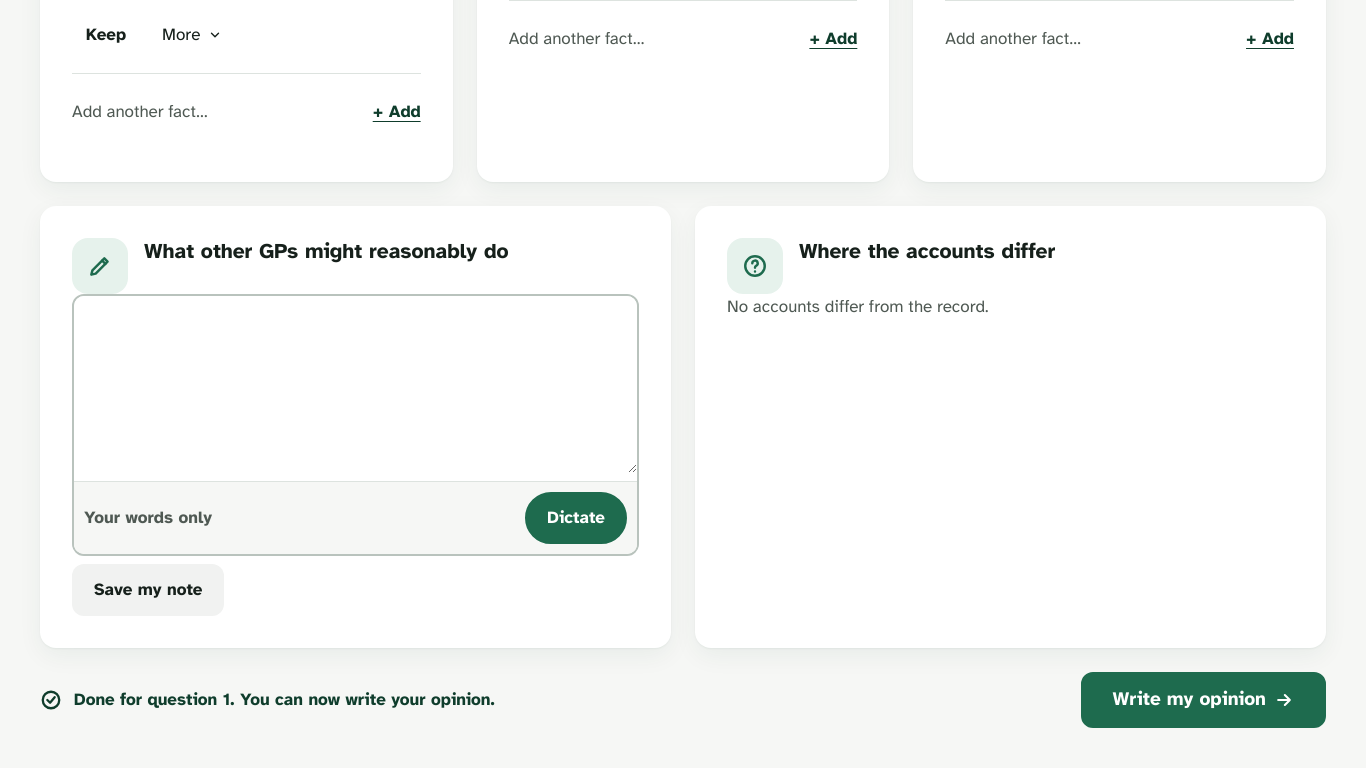
Test case: the range note uses the pack's prompt and saves with its version
This screenshot has width=1366, height=768.
(page scrolled)
Type "My note" into the text box named "What other GPs might reasonably do" at (356, 384), box top-left (74, 296), bottom-right (637, 473)
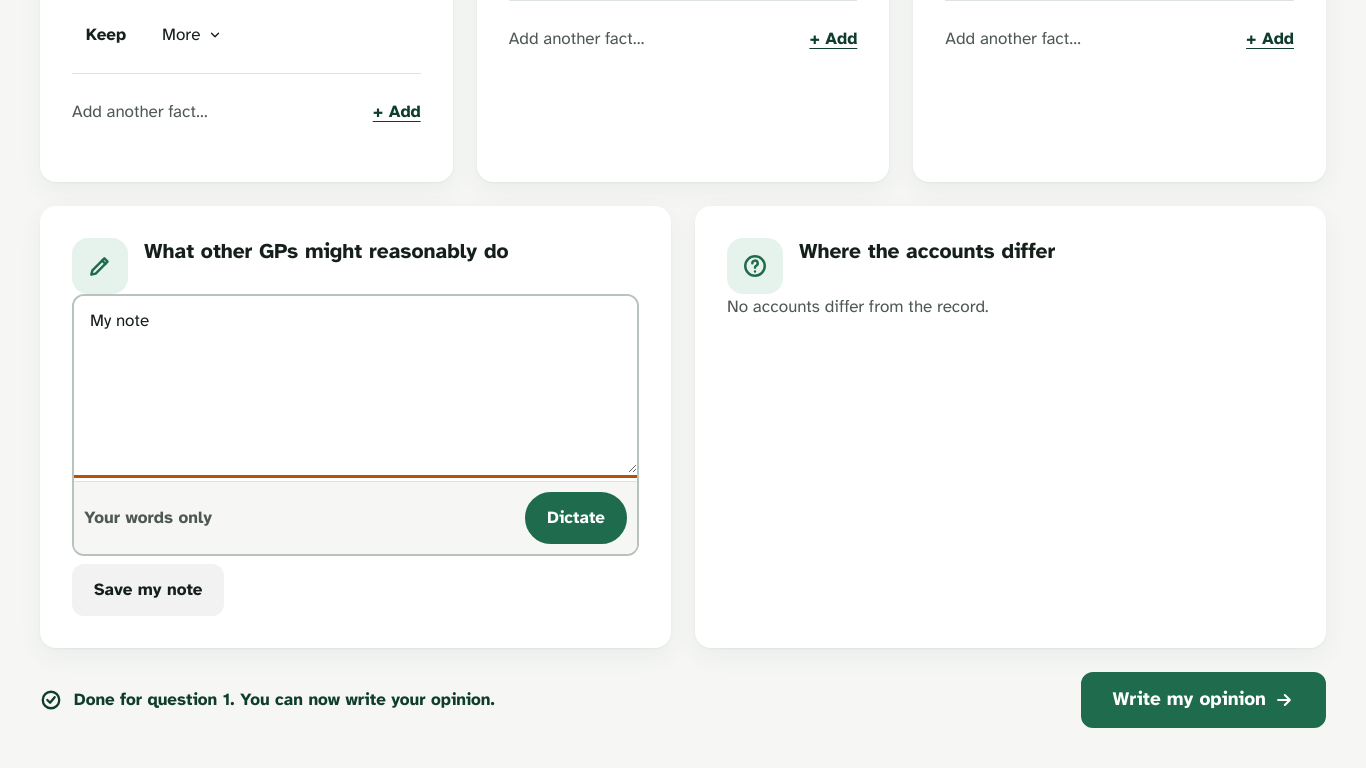
Click the button "Save my note" at (148, 590), box top-left (72, 564), bottom-right (224, 616)
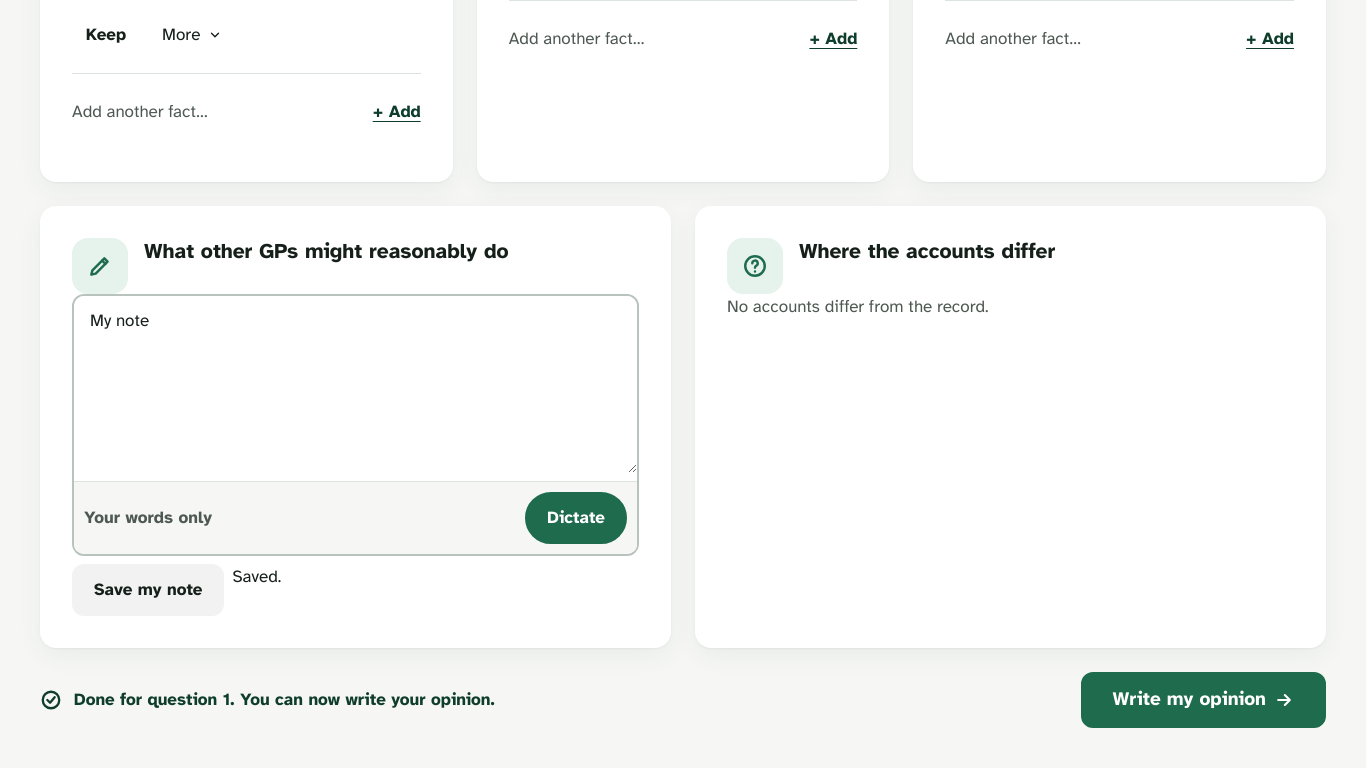
Expected: the text "Saved." is shown, top-left (232, 566), bottom-right (281, 586)
